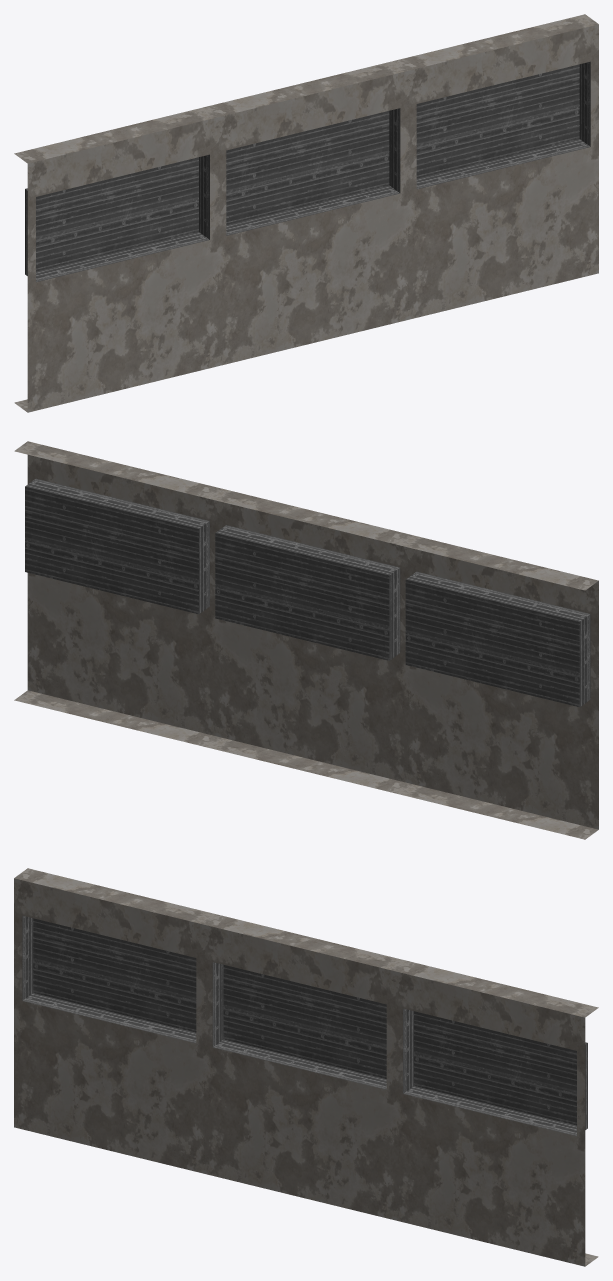
Rendered from WallTripleRecess.glb.
The picture shows the model from 3 angles, top to bottom: view 1: azimuth 30°, elevation 25°; view 2: azimuth 150°, elevation 25°; view 3: azimuth 330°, elevation 25°; orthographic projection.
Parts seen in each view (by area): view 1: Wall_Single_Recess_Cube.001; view 2: Wall_Single_Recess_Cube.001; view 3: Wall_Single_Recess_Cube.001.
Boxes of the visible parts, x1,y1,x2,y2 form: Wall_Single_Recess_Cube.001: [14, 14, 598, 412]; Wall_Single_Recess_Cube.001: [14, 441, 598, 839]; Wall_Single_Recess_Cube.001: [14, 868, 598, 1266].
Bounding box in the file's own units: 12 × 5 × 0.5.
Materials: 2 (2 with a texture image).
